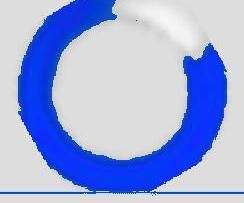ProgressBar: (1, 1, 243, 202)
